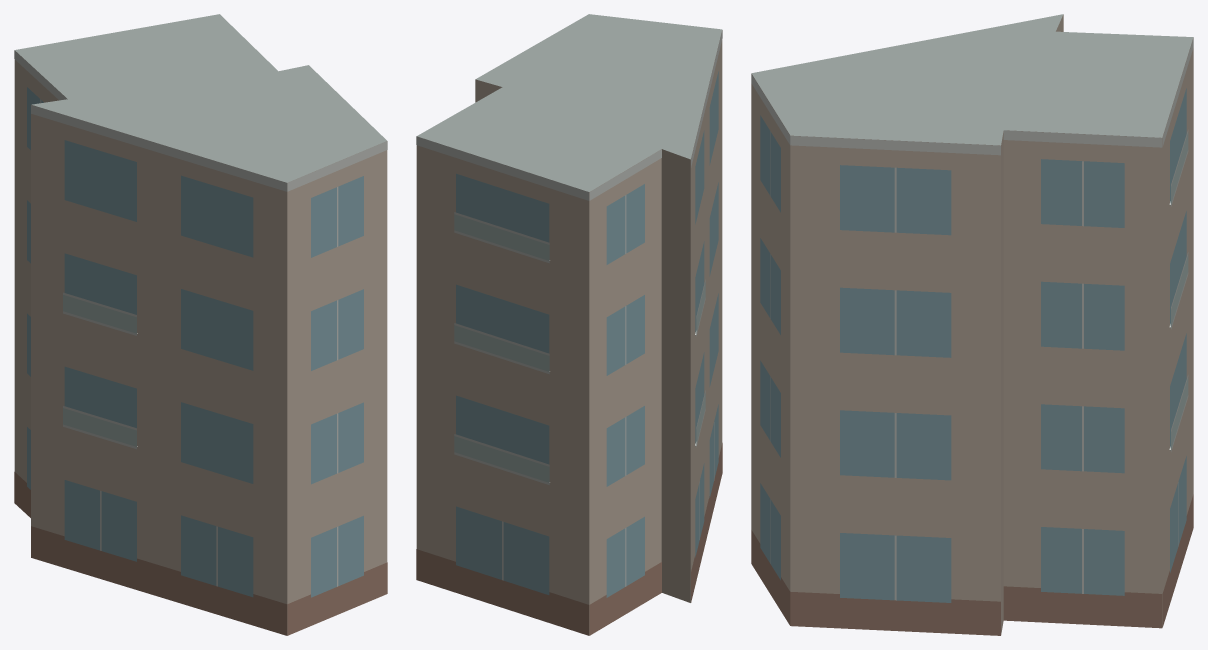
File: survey-upis-32457943.glb
3 views of the same model, side by side, from view 1: azimuth 30°, elevation 25°; view 2: azimuth 150°, elevation 25°; view 3: azimuth 270°, elevation 25° (orthographic). The views are drawn at different scales.
Parts seen in each view (by area): view 1: survey-upis-32457943.tmp; view 2: survey-upis-32457943.tmp; view 3: survey-upis-32457943.tmp.
Part boxes in pixels (bbox=[...]): survey-upis-32457943.tmp: bbox=[14, 14, 387, 635]; survey-upis-32457943.tmp: bbox=[416, 14, 722, 635]; survey-upis-32457943.tmp: bbox=[751, 14, 1193, 635].
Size of the model in its own units: 7.02 by 12.2 by 9.98.
